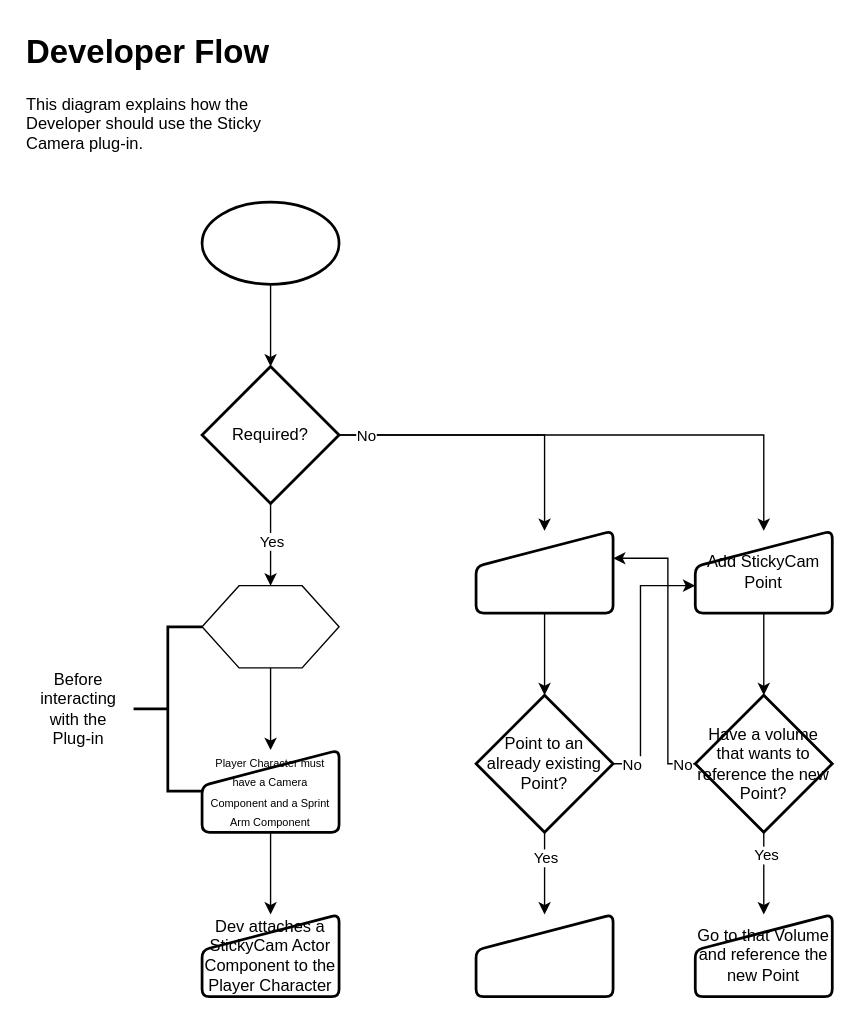
This 856x1021 diagram has some shape labels left out. Here are the shapes that lost their labels. From the top down, the centre of each, then its label:
point 270,242: Dev installs StickyCam Plug-in
point 544,571: Add StickyCam Volume
point 544,954: Add reference to intended StickyCam Point
